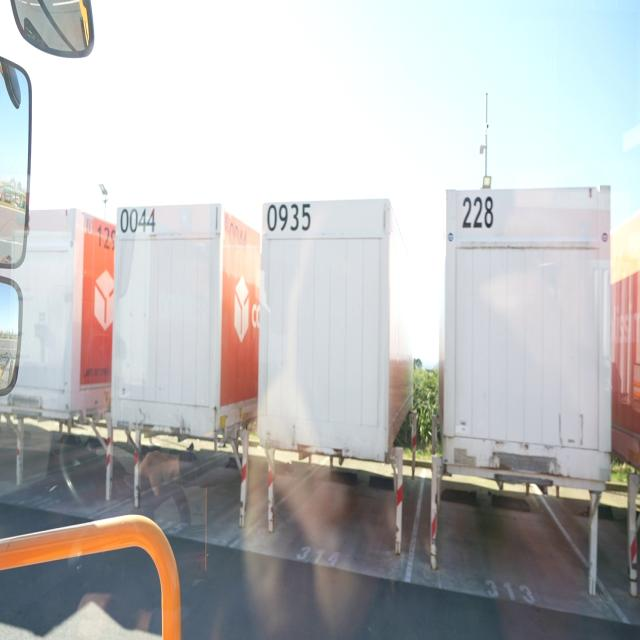Code: (264, 201, 318, 238), (454, 189, 498, 232), (116, 204, 158, 237)
